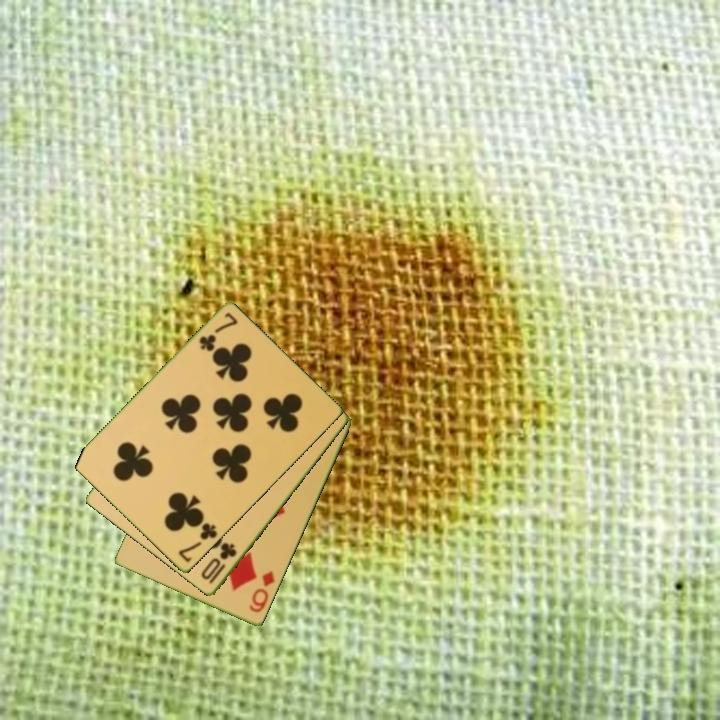10c: (197, 539, 240, 587)
6d: (245, 568, 278, 616)
7c: (195, 309, 241, 355), (175, 519, 220, 566)
